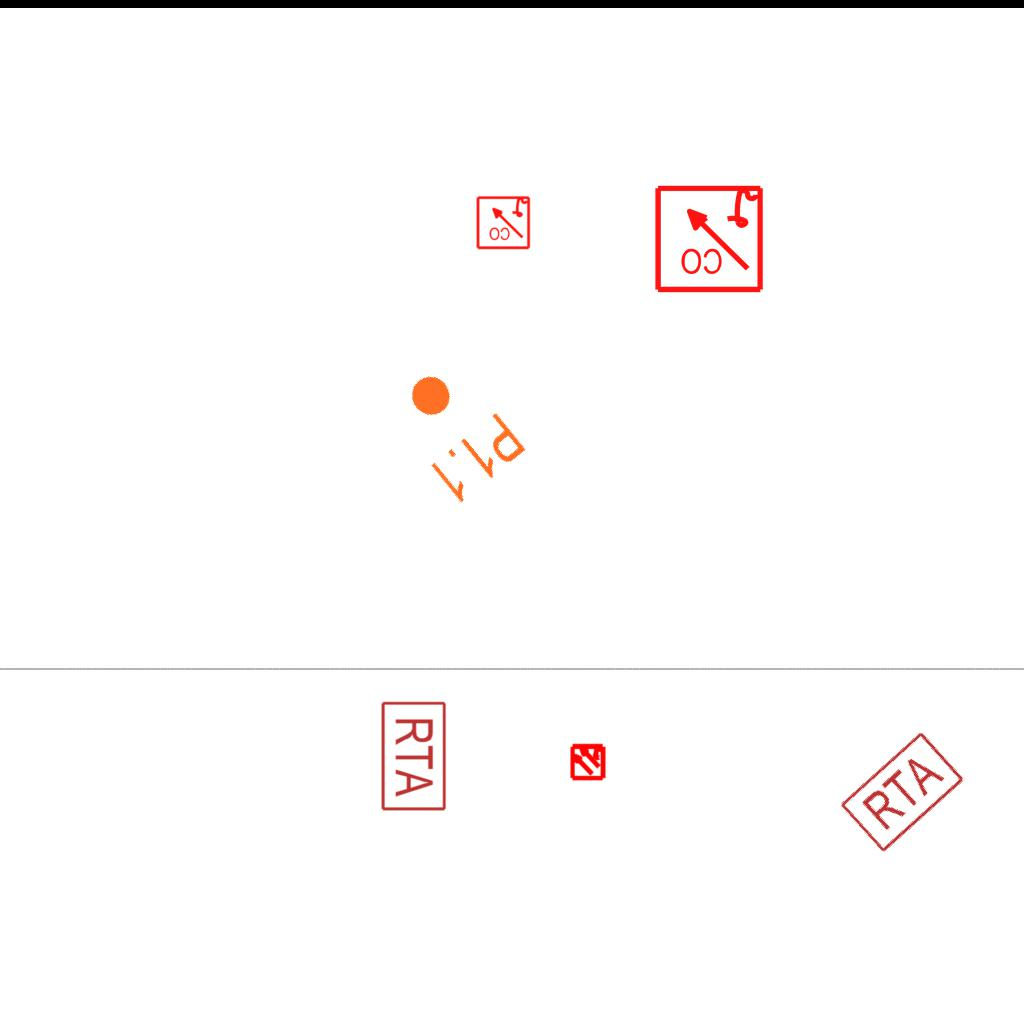Downlight_LED_Einbauleuchten_Flur_2: (378, 350, 531, 510)
OT_Multisensormelder_(Kombination_RMO_WMD): (560, 733, 616, 789)
ROA_Rauchmelder_optisch_mit_Signalgeber_(Sockelsirene): (652, 181, 765, 294), (475, 194, 531, 250)
Ruf-und_Abstelltaster: (836, 729, 967, 857), (379, 698, 448, 812)
